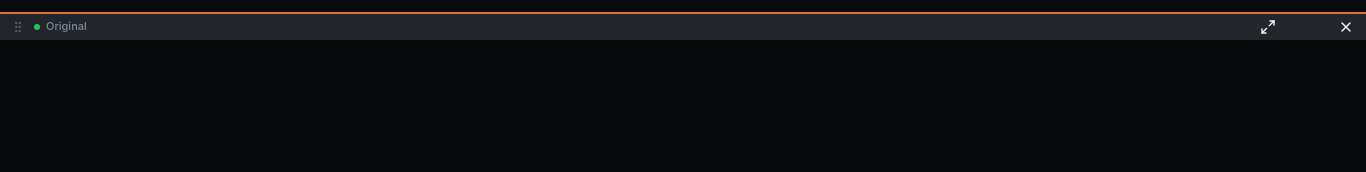
Test case: PaneHeader — BSP-O4 inline rename › entering edit mode on double-click shows the rename input
Double-click the button with test id "pane-display-name" at [60, 26], box [34, 19, 87, 33]
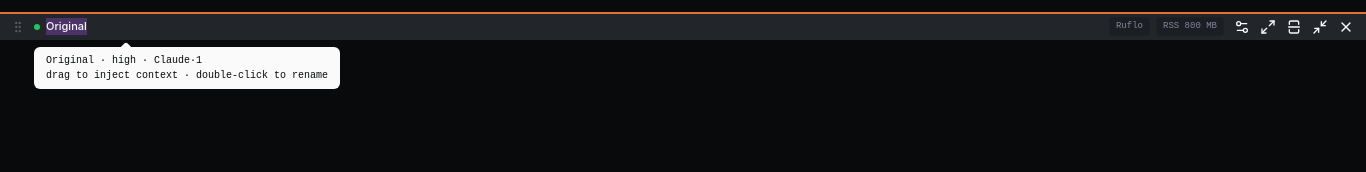
Check: the field with test id "pane-rename-input" holds "Original", box [46, 18, 218, 35]
